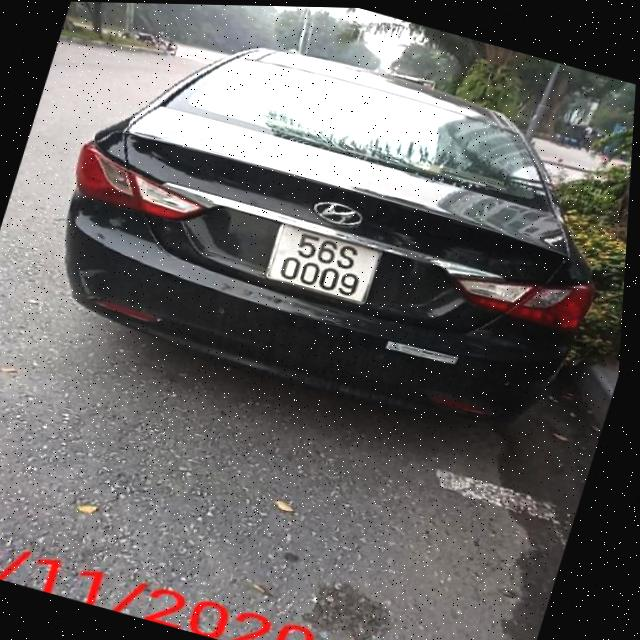car: (18, 1, 640, 465)
plate: (251, 211, 393, 314)
